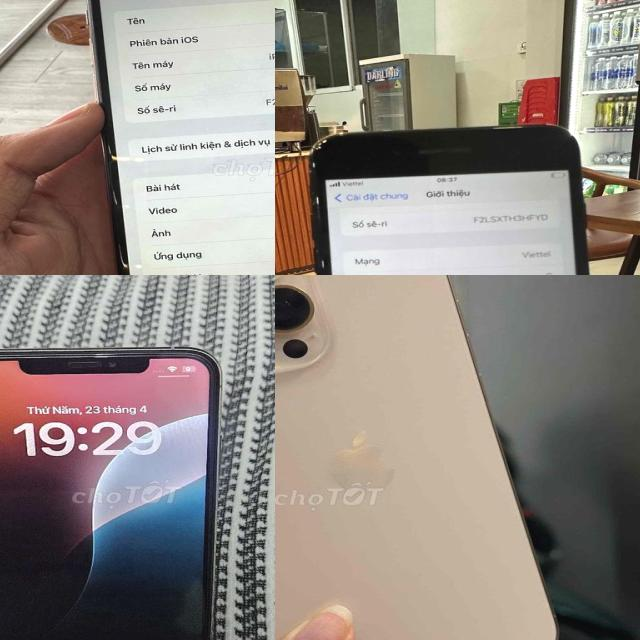gen_16: (275, 275, 556, 640)
gen_7_8: (311, 125, 588, 275)
gen_x_xs: (0, 338, 244, 640), (64, 0, 275, 275)
